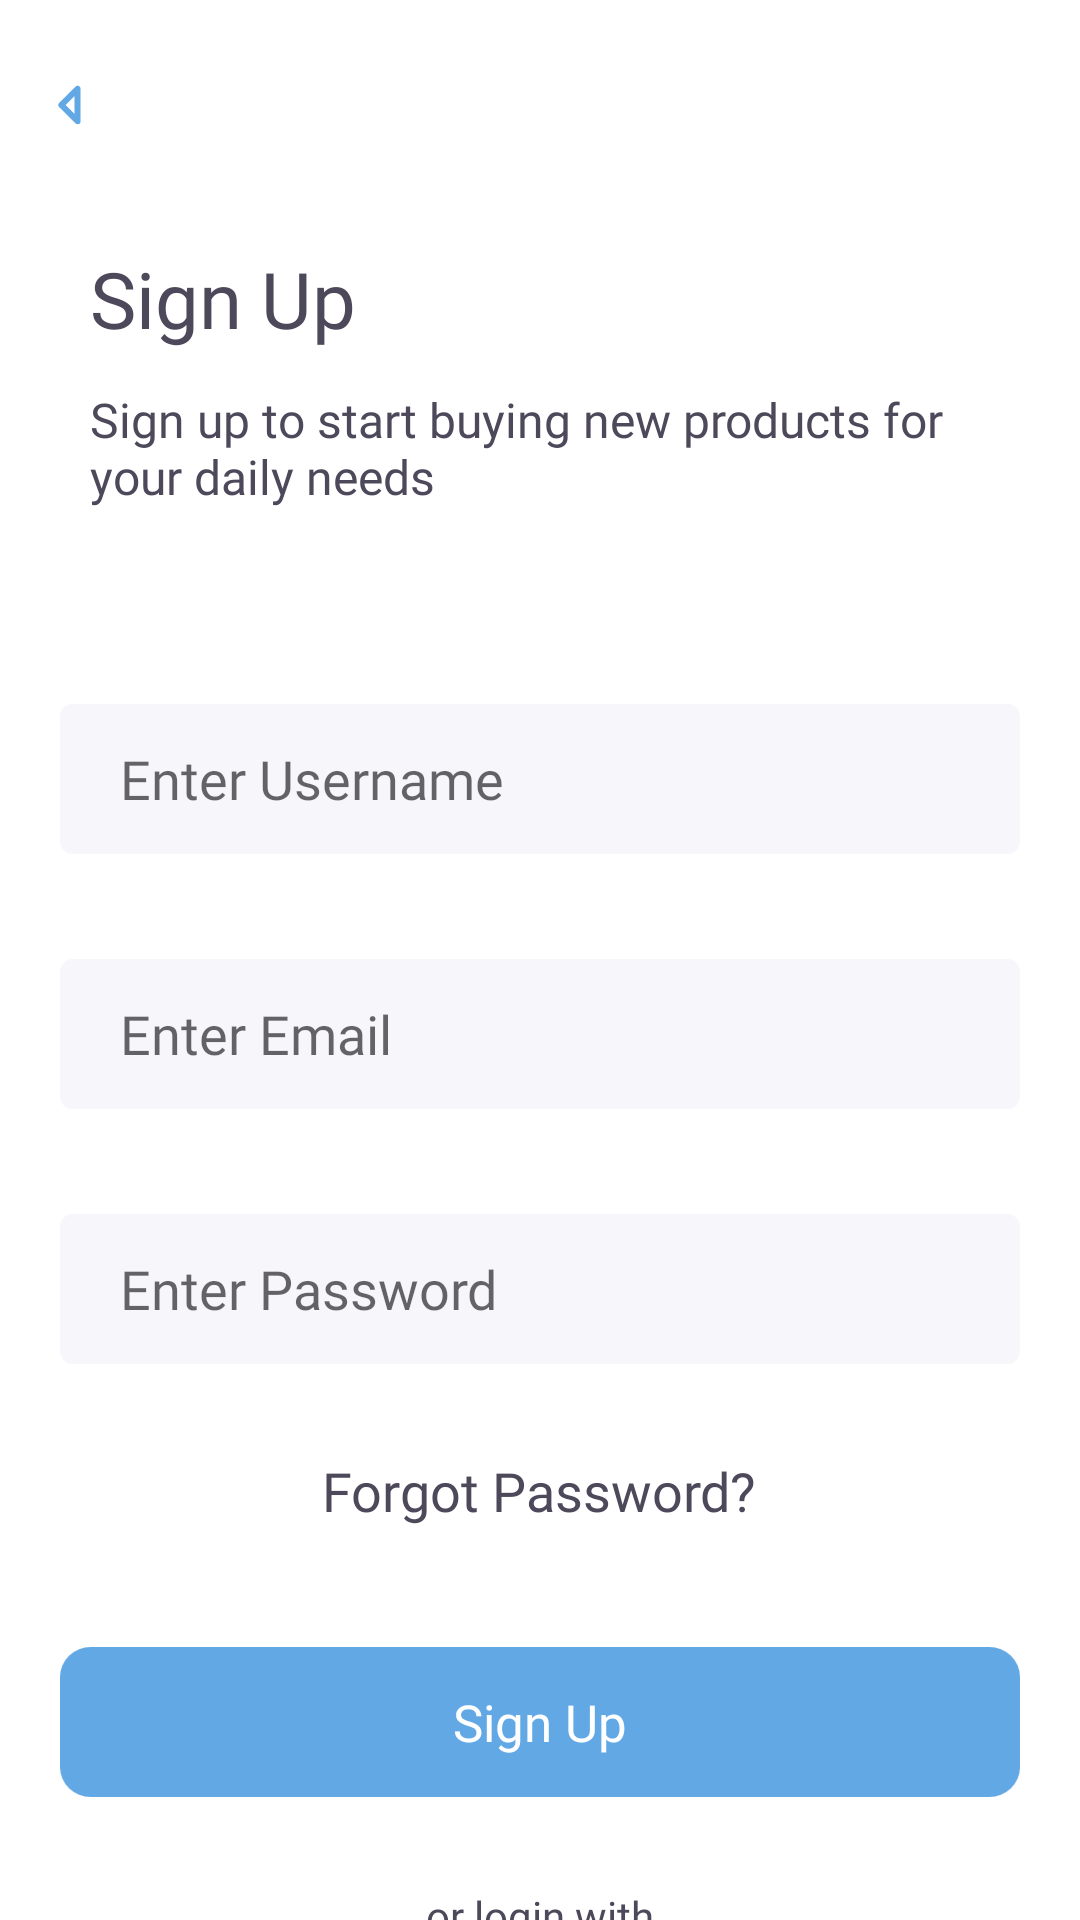

Where icons sit on this 1080*1920 app screen, as (x1=x1, y1=y1, x2=x2, y2=y2):
backbtn: (x1=58, y1=85, x2=81, y2=125)
